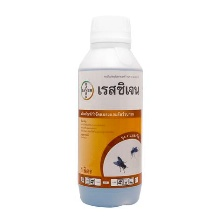insecticide: (75, 11, 146, 209)
